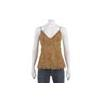canottiera: (38, 26, 64, 69)
